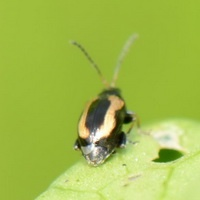insect: (71, 34, 137, 165)
